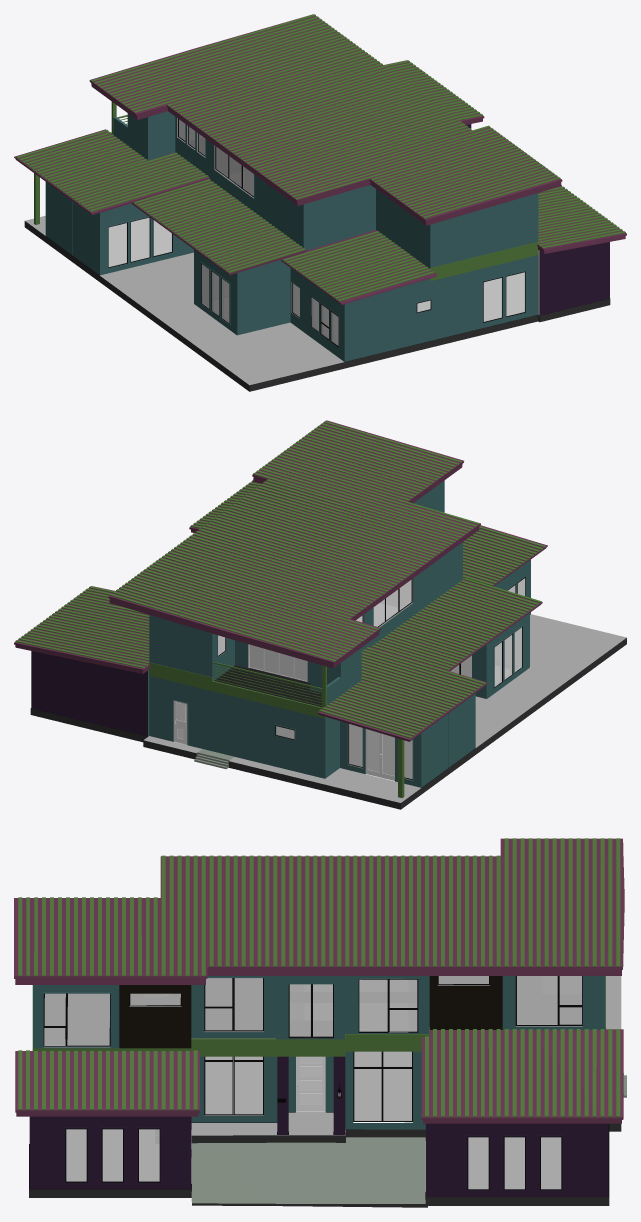
The model's file is BH_variant_3.glb.
3 renders of one model, top to bottom at view 1: azimuth 30°, elevation 25°; view 2: azimuth 150°, elevation 25°; view 3: azimuth 270°, elevation 25°, orthographic. The views are drawn at different scales.
Visible parts, largest first — view 1: ROOF.001, LF_EXT.001, TF_EXT.001, portico, WindowsBH, outermetal.001; view 2: ROOF.001, LF_EXT.001, portico, TF_EXT.001, WindowsBH, outermetal.001, TF_FLOOR, Outdoor_Door.001_d1, Door01_Support_d1.001, Laundry_Door_d1, Outdoor_Door_d1; view 3: ROOF.001, WindowsBH, LF_EXT.001, portico, TF_EXT.001, outermetal.001, Entrance_door_d1, FIREPLACE.001.
Boxes of the visible parts, box(x1,y1,x2,y2) form: ROOF.001: box(14, 14, 626, 304); LF_EXT.001: box(45, 124, 609, 361); TF_EXT.001: box(113, 111, 538, 268); portico: box(24, 215, 610, 391); WindowsBH: box(108, 119, 525, 347); outermetal.001: box(429, 242, 538, 281); ROOF.001: box(14, 420, 547, 798); LF_EXT.001: box(31, 559, 530, 787); portico: box(30, 614, 626, 809); TF_EXT.001: box(149, 480, 462, 704); WindowsBH: box(218, 577, 525, 779); outermetal.001: box(149, 662, 325, 718); TF_FLOOR: box(214, 665, 321, 707); Outdoor_Door.001_d1: box(366, 729, 380, 777); Door01_Support_d1.001: box(249, 644, 307, 681); Laundry_Door_d1: box(173, 700, 187, 744); Outdoor_Door_d1: box(380, 733, 394, 780); ROOF.001: box(14, 838, 624, 1123); WindowsBH: box(43, 976, 582, 1190); LF_EXT.001: box(29, 1032, 608, 1197); portico: box(29, 976, 626, 1207); TF_EXT.001: box(33, 976, 605, 1048); outermetal.001: box(32, 976, 605, 1056); Entrance_door_d1: box(296, 1056, 325, 1112); FIREPLACE.001: box(44, 985, 582, 1115).
Bounding box in the file's own units: 24.33 × 8.6 × 25.06.
